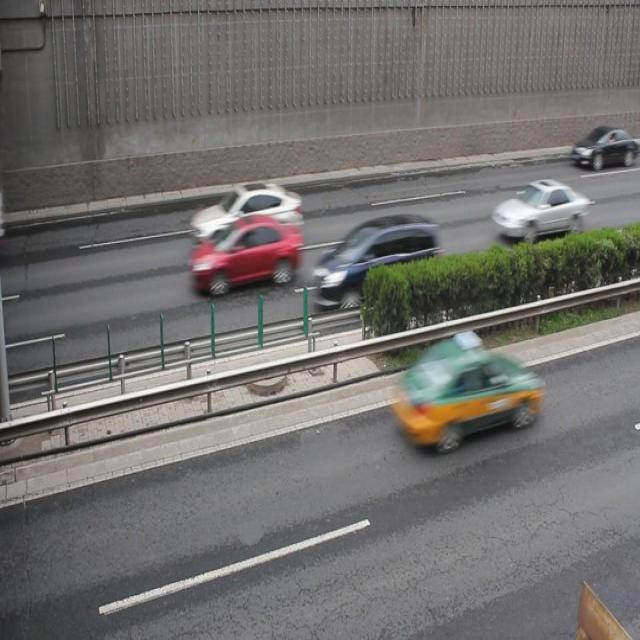car: (397, 333, 540, 448), (316, 213, 439, 306), (192, 214, 302, 293), (192, 181, 302, 248), (492, 177, 583, 245), (572, 124, 640, 169)
